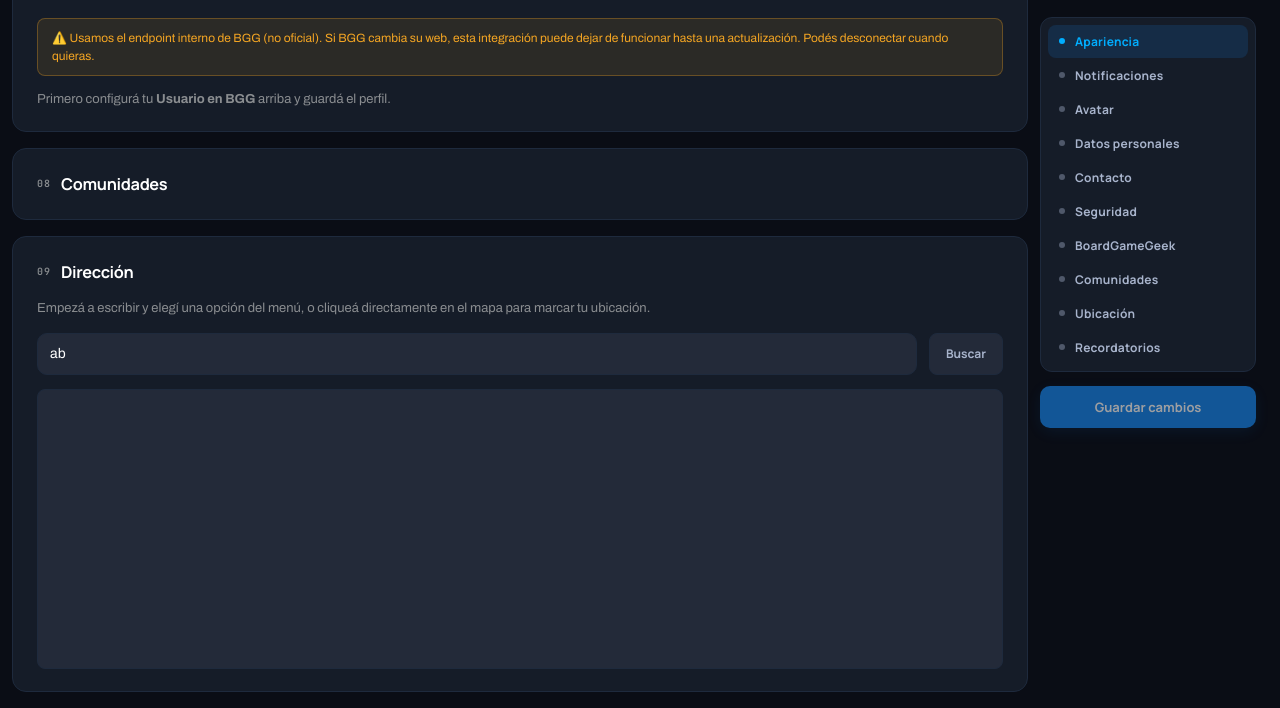
it: UserProfile — Dirección (Google Maps) › refuses to geocode if the typed text is too short
This screenshot has width=1280, height=708.
(page scrolled)
Click the button "Buscar": (966, 354) [929,333,1003,375]
(page scrolled)
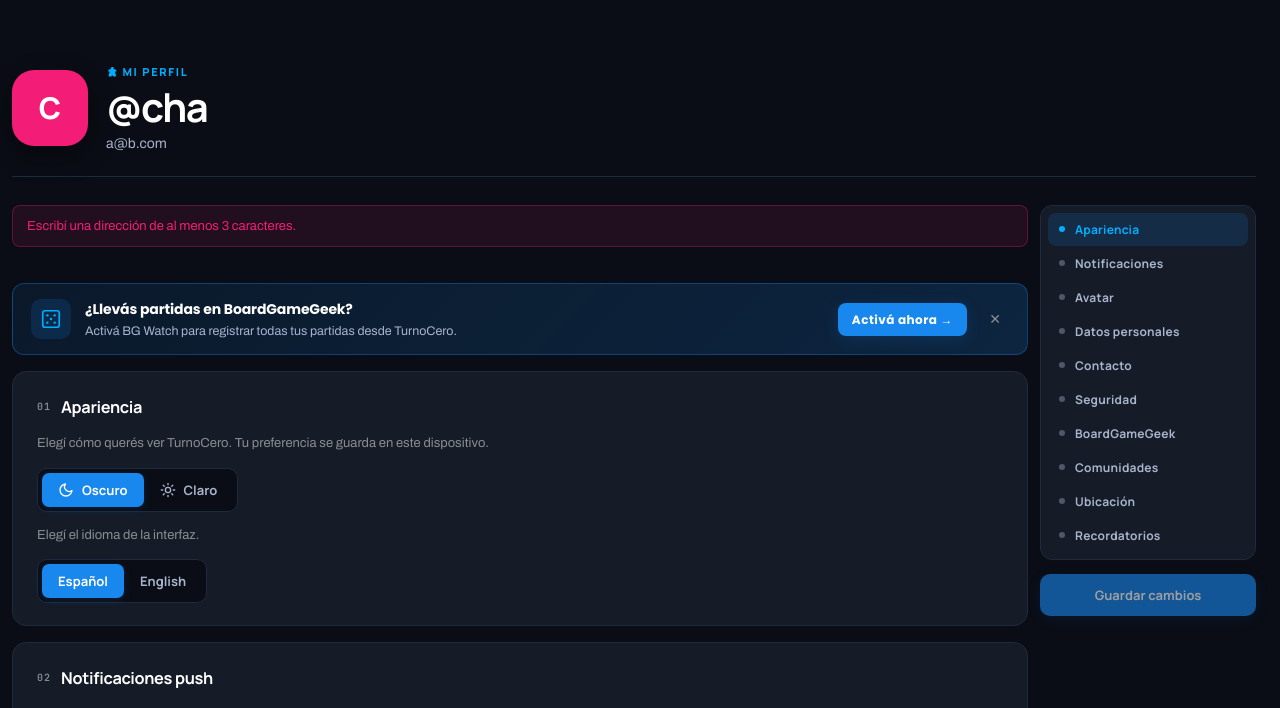
Check: the text "Escribí una dirección de al menos 3 caracteres." is shown, box [12,205,1028,247]
